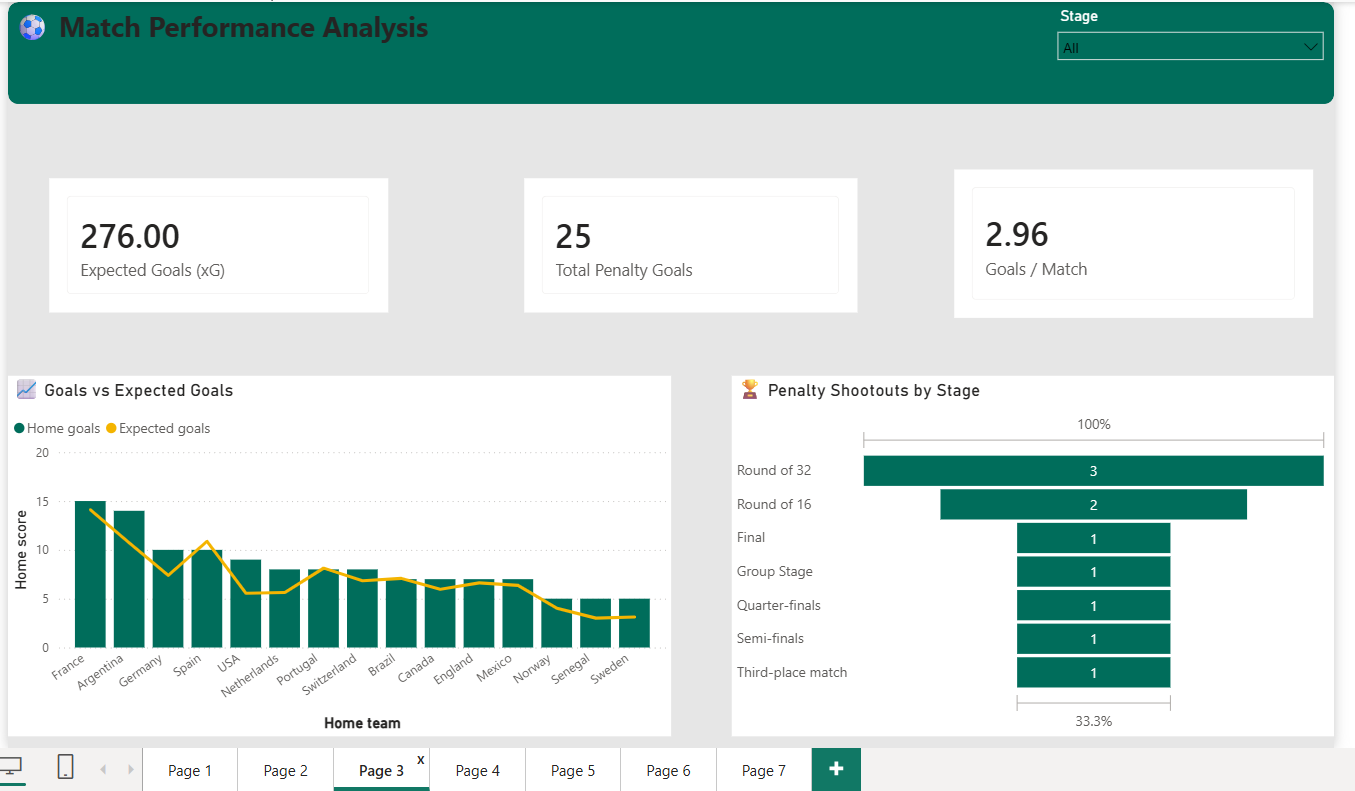

The page's visual inventory and layout, read from the dashboard file:
{"tool":"powerbi","page":{"name":"Page 3","canvas":[1280,720],"ordinal":2},"visuals":[{"type":"shape","box":[0,0,1280,98.7],"z":0},{"type":"cardVisual","fields":{"Data":["matches_detailed.Total xG"]},"box":[40.3,169.7,327,129.4],"z":1000},{"type":"cardVisual","fields":{"Data":["matches_detailed.Total Penalty Goals"]},"box":[498.1,169.7,321.4,129.4],"z":2000},{"type":"lineClusteredColumnComboChart","title":"📈 Goals vs Expected Goals","fields":{"Category":["matches_detailed.home_team_name"],"Y":["Sum(matches_detailed.home_score)"],"Y2":["Sum(matches_detailed.home_xg)"]},"box":[0,360.3,640,347.8],"z":3000},{"type":"funnel","title":"🏆 Penalty Shootouts by Stage","fields":{"Category":["tournament_stages.stage_name"],"Y":["Count(matches_detailed.home_penalty_score)"]},"box":[698.4,360.6,581.6,347.8],"z":4000},{"type":"textbox","box":[0,0,416,98.8],"z":5000},{"type":"cardVisual","fields":{"Data":["matches_detailed.Average Goals Per Match"]},"box":[912.7,161.4,346.4,143.3],"z":6000},{"type":"slicer","fields":{"Values":["tournament_stages.stage_name"]},"box":[1002.6,0,277.4,98.7],"z":7000}]}

Visuals, with their boxes on the page's 1280x720 design canvas (x1, y1, x2, y2). These are canvas units, not pixel positions in the 1355x791 screenshot, which may show the page scaled, cropped or inside an application window:
shape: [0, 0, 1280, 99]
cardVisual - matches_detailed.Total xG: [40, 170, 367, 299]
cardVisual - matches_detailed.Total Penalty Goals: [498, 170, 820, 299]
"📈 Goals vs Expected Goals" lineClusteredColumnComboChart: [0, 360, 640, 708]
"🏆 Penalty Shootouts by Stage" funnel: [698, 361, 1280, 708]
textbox: [0, 0, 416, 99]
cardVisual - matches_detailed.Average Goals Per Match: [913, 161, 1259, 305]
slicer - tournament_stages.stage_name: [1003, 0, 1280, 99]
